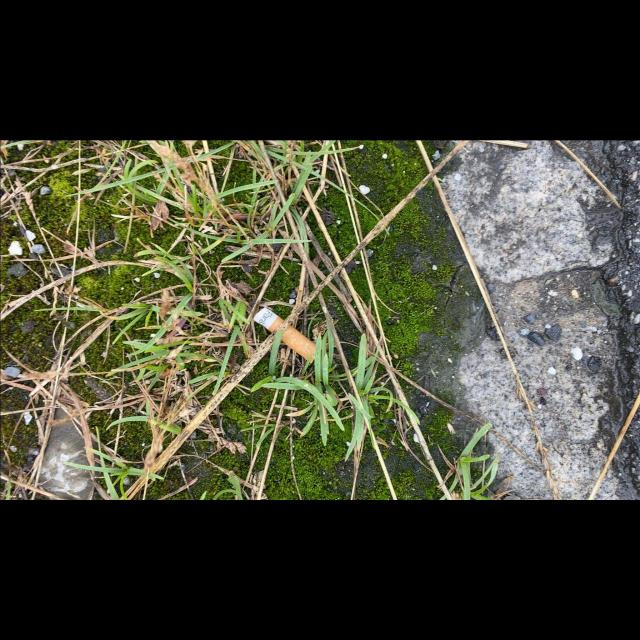cigarette: (252, 306, 316, 364)
